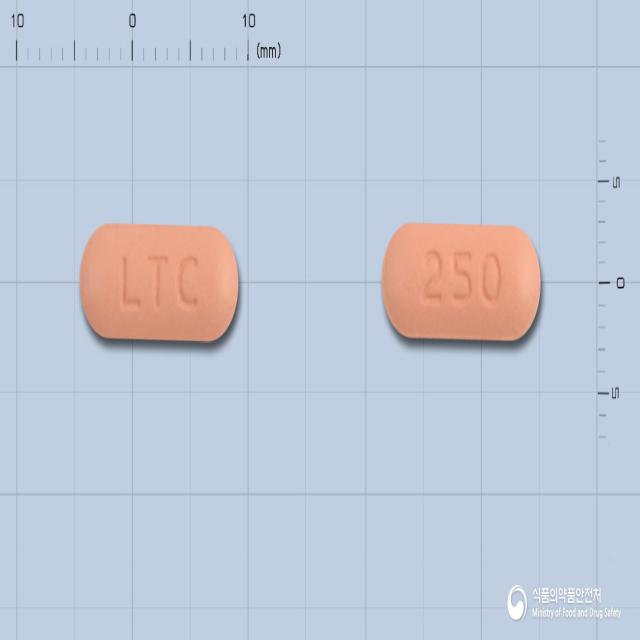Croracin: (382, 220, 542, 342), (79, 222, 240, 343)
